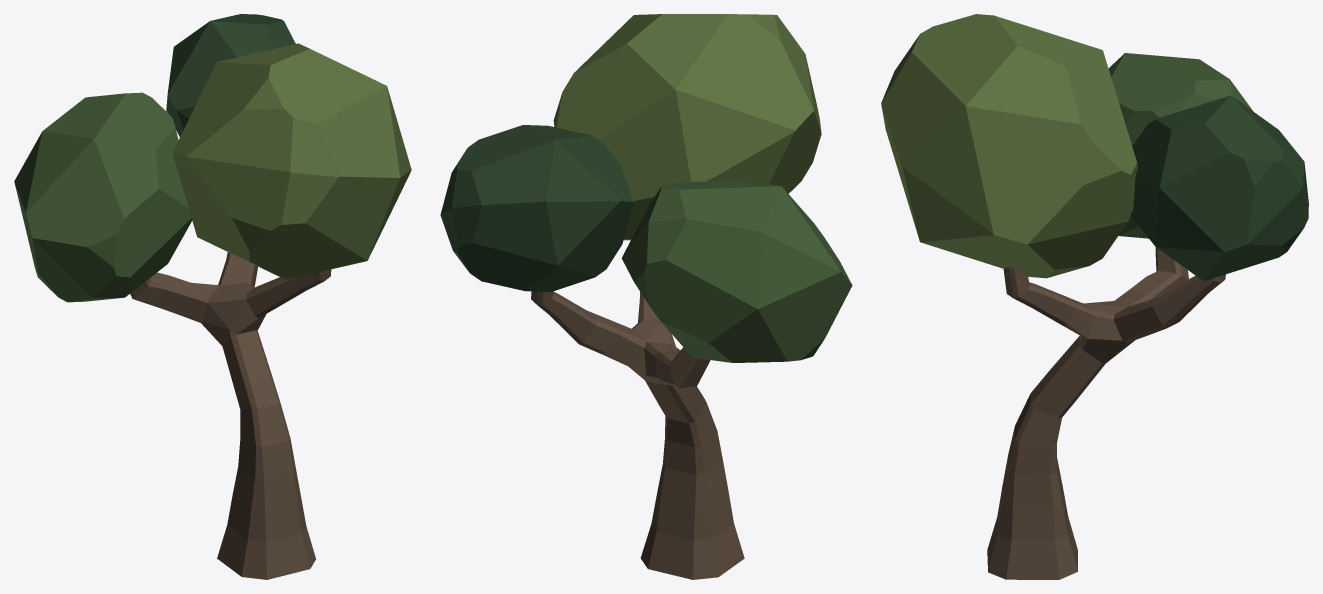
File: SmallTree.fbx
3 renders of one model, left to right at view 1: azimuth 30°, elevation 25°; view 2: azimuth 150°, elevation 25°; view 3: azimuth 270°, elevation 25°, orthographic. The views are drawn at different scales.
Parts seen in each view (by area): view 1: Icosphere.002; view 2: Icosphere.002; view 3: Icosphere.002.
Part boxes in pixels (box(x1,y1,x2,y2)): Icosphere.002: box(14, 14, 411, 579); Icosphere.002: box(440, 14, 852, 579); Icosphere.002: box(881, 14, 1308, 579).
Bounding box in the file's own units: 187 × 273 × 197.
